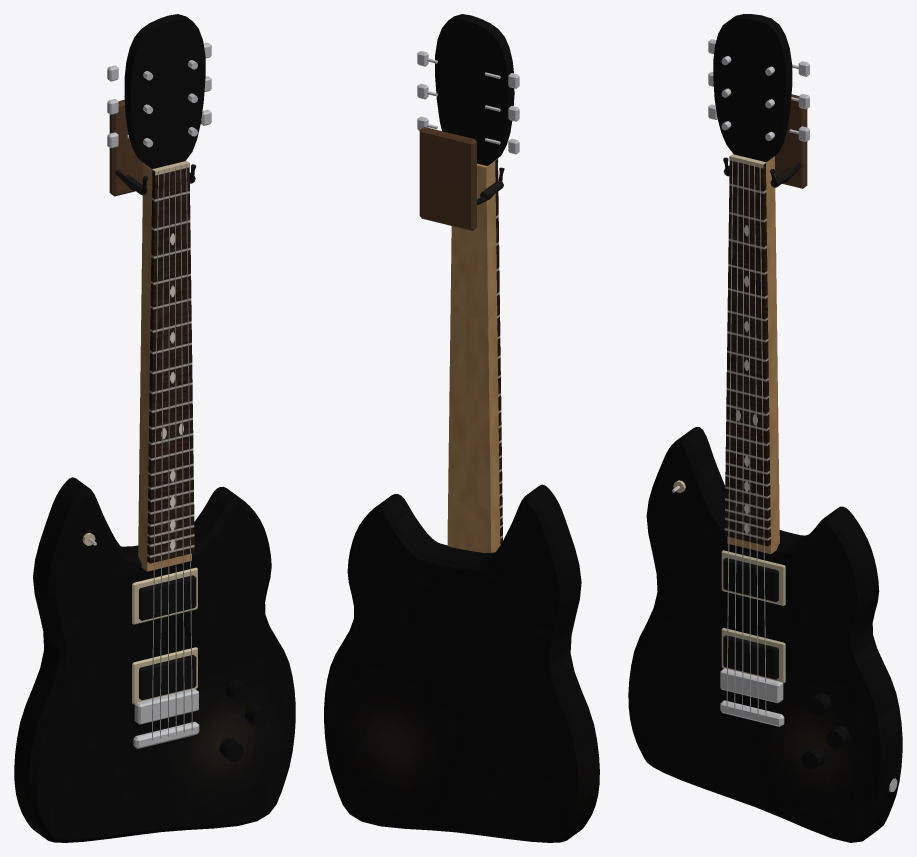
The model's file is guitar-black.glb.
The picture shows the model from 3 angles, left to right: view 1: azimuth 30°, elevation 25°; view 2: azimuth 150°, elevation 25°; view 3: azimuth 330°, elevation 25°; orthographic projection. The views are drawn at different scales.
Parts seen in each view (by area): view 1: guitar_black; view 2: guitar_black; view 3: guitar_black.
Part boxes in pixels (bbox=[...]): guitar_black: bbox=[14, 14, 295, 842]; guitar_black: bbox=[324, 14, 599, 842]; guitar_black: bbox=[628, 14, 902, 842].
Size of the model in its own units: 0.3333 by 0.9894 by 0.0788.
1 material, 1 textured.
